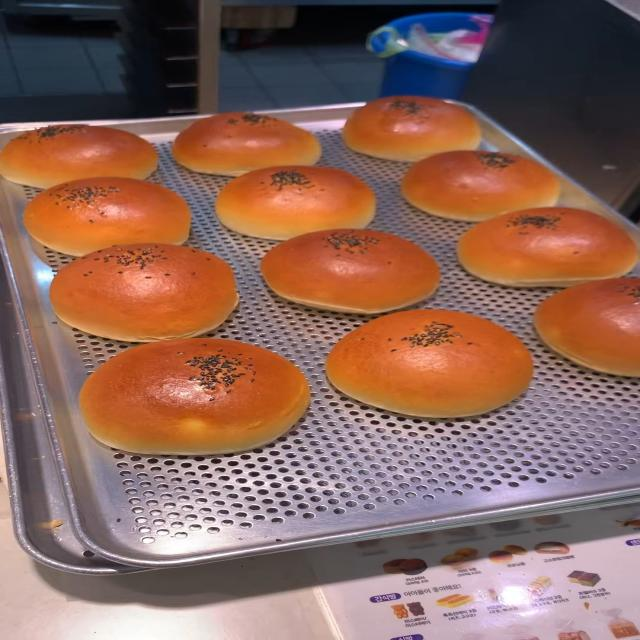bread: (75, 336, 308, 454), (322, 304, 530, 416), (42, 238, 234, 343), (262, 228, 438, 316)
